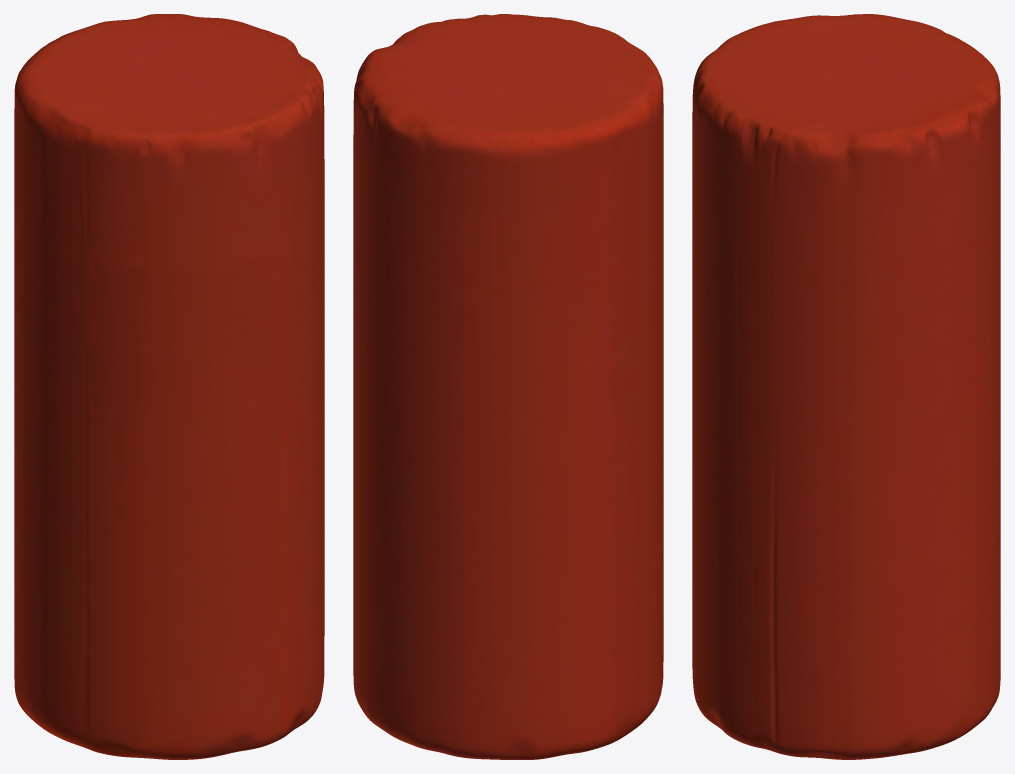
The model's file is block_04.glb.
3 views of the same model, side by side, from view 1: azimuth 30°, elevation 25°; view 2: azimuth 150°, elevation 25°; view 3: azimuth 270°, elevation 25° (orthographic).
Visible parts, largest first — view 1: block_04_part_02, block_04_part_01; view 2: block_04_part_01, block_04_part_02; view 3: block_04_part_01, block_04_part_02.
Part boxes in pixels (x1,y1,x2,y2): block_04_part_02: (83, 75, 324, 759); block_04_part_01: (14, 14, 323, 751); block_04_part_01: (353, 22, 663, 759); block_04_part_02: (438, 14, 663, 687); block_04_part_01: (771, 14, 1000, 759); block_04_part_02: (692, 21, 776, 751).
Size of the model in its own units: 0.2074 by 0.463 by 0.206.
Materials: 2 (2 with a texture image).
